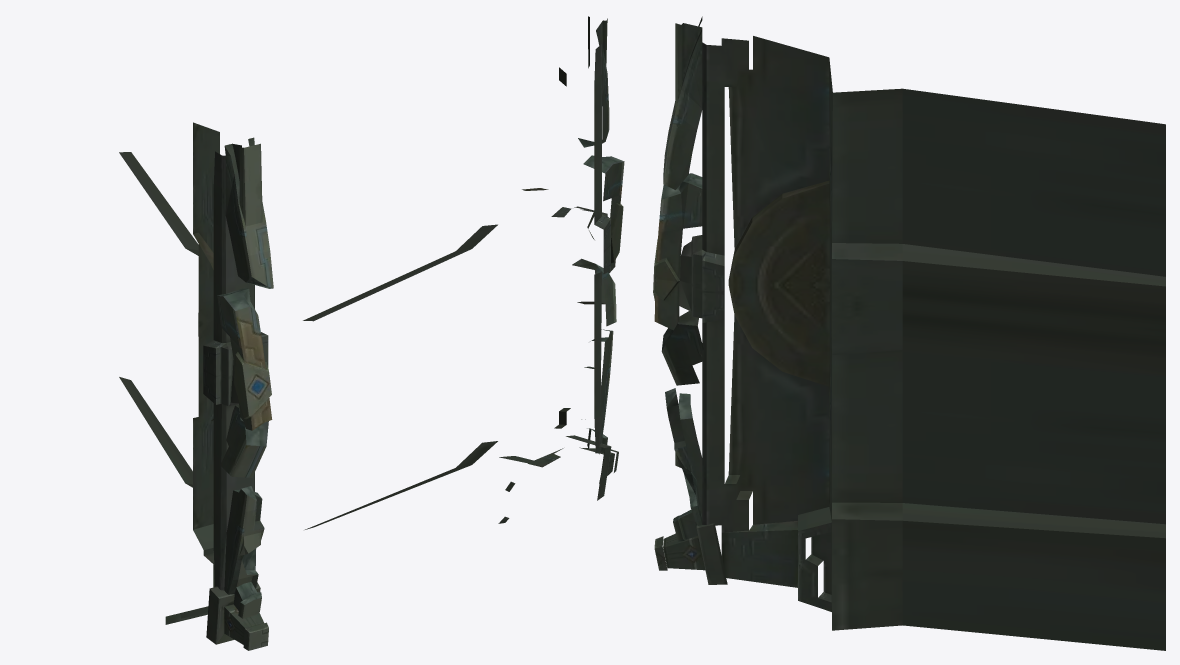
The picture shows the model from 3 angles, left to right: view 1: azimuth 30°, elevation 25°; view 2: azimuth 150°, elevation 25°; view 3: azimuth 270°, elevation 25°; orthographic projection. The views are drawn at different scales.
Parts seen in each view (by area): view 1: model_Object15; view 2: model_Object15; view 3: model_Object15.
Part boxes in pixels (x1,y1,x2,y2): model_Object15: (119, 122, 273, 650); model_Object15: (303, 16, 624, 529); model_Object15: (653, 16, 1165, 650).
Bounding box in the file's own units: 1.68 × 6.63 × 5.29.
1 material, 1 textured.
